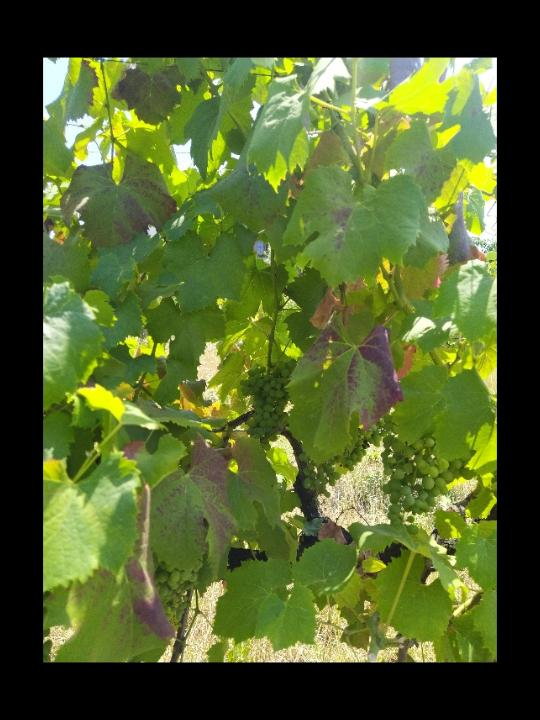grape: (380, 431, 475, 536), (239, 357, 296, 450)
